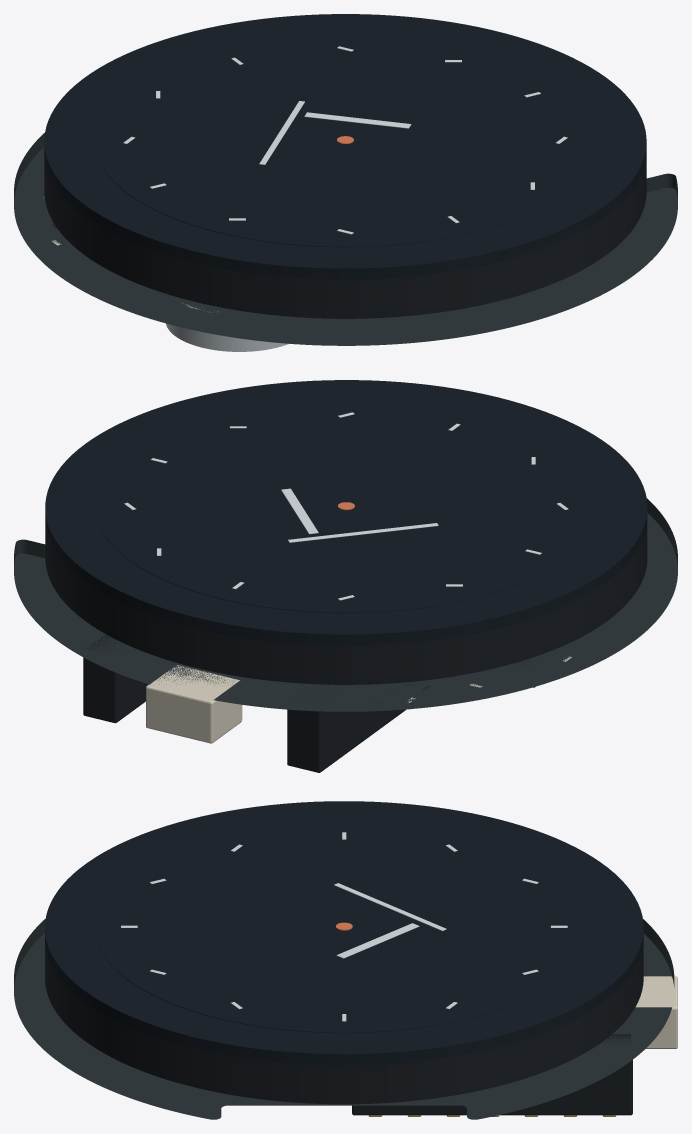
Rendered from watch-display.glb.
3 renders of one model, top to bottom at view 1: azimuth 30°, elevation 25°; view 2: azimuth 150°, elevation 25°; view 3: azimuth 270°, elevation 25°, orthographic.
Visible parts, largest first — view 1: Round Display / Glass, Round Display / PCB, Round Display / Rubber, Round Display / Ink, Round Display / Tin; view 2: Round Display / Glass, Round Display / Rubber, Round Display / PCB, Round Display / Ceramic, Round Display / Ink; view 3: Round Display / Glass, Round Display / Rubber, Round Display / PCB, Round Display / Ceramic, Round Display / Ink.
Part boxes in pixels (left/top/right/bottom): Round Display / Glass: left=44, top=14, right=646, bottom=279; Round Display / PCB: left=14, top=133, right=677, bottom=345; Round Display / Rubber: left=44, top=155, right=646, bottom=318; Round Display / Ink: left=123, top=46, right=567, bottom=234; Round Display / Tin: left=166, top=303, right=289, bottom=351; Round Display / Glass: left=45, top=380, right=647, bottom=645; Round Display / Rubber: left=45, top=523, right=647, bottom=772; Round Display / PCB: left=14, top=498, right=677, bottom=711; Round Display / Ceramic: left=146, top=656, right=571, bottom=743; Round Display / Ink: left=124, top=412, right=568, bottom=600; Round Display / Glass: left=45, top=801, right=643, bottom=1065; Round Display / Rubber: left=45, top=943, right=643, bottom=1115; Round Display / PCB: left=14, top=919, right=674, bottom=1119; Round Display / Ceramic: left=636, top=976, right=677, bottom=1048; Round Display / Ink: left=121, top=832, right=567, bottom=1021.
Bounding box in the file's own units: 41.2 × 10.04 × 43.24.
